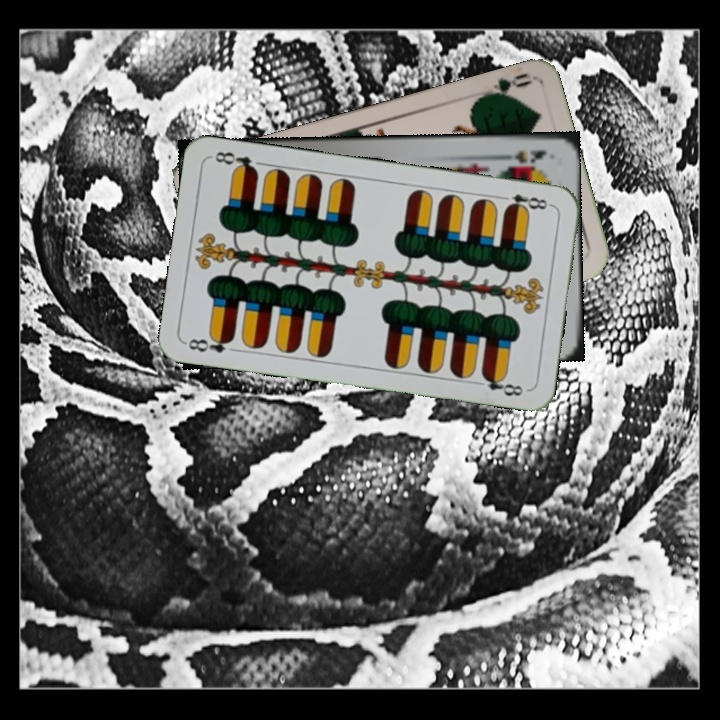E8: (496, 190, 554, 215), (182, 331, 237, 356)
GO: (477, 69, 534, 100)
SK: (494, 146, 549, 166)
